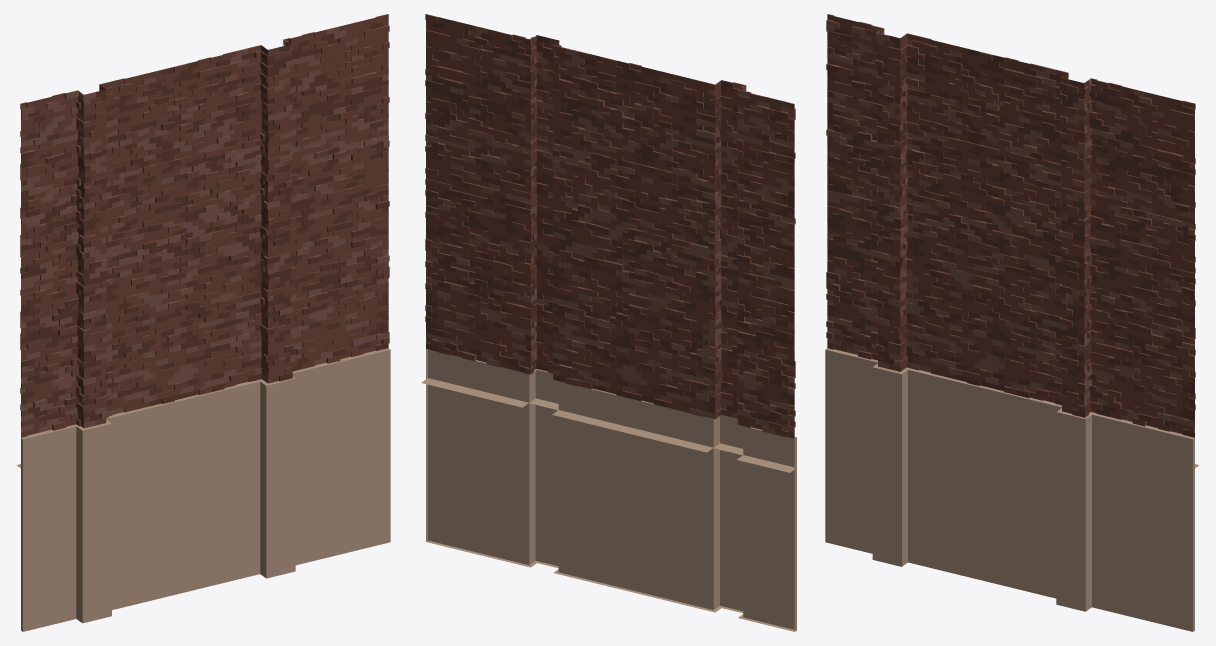
File: ModularWall__Base.fbx
3 views of the same model, side by side, from view 1: azimuth 30°, elevation 25°; view 2: azimuth 150°, elevation 25°; view 3: azimuth 330°, elevation 25° (orthographic).
Visible parts, largest first — view 1: ModularWall._Base; view 2: ModularWall._Base; view 3: ModularWall._Base.
Boxes of the visible parts, x1,y1,x2,y2 form: ModularWall._Base: (16,14,390,631); ModularWall._Base: (421,14,796,631); ModularWall._Base: (825,14,1199,631).
Bounding box in the file's own units: 951 × 1300 × 66.76.
